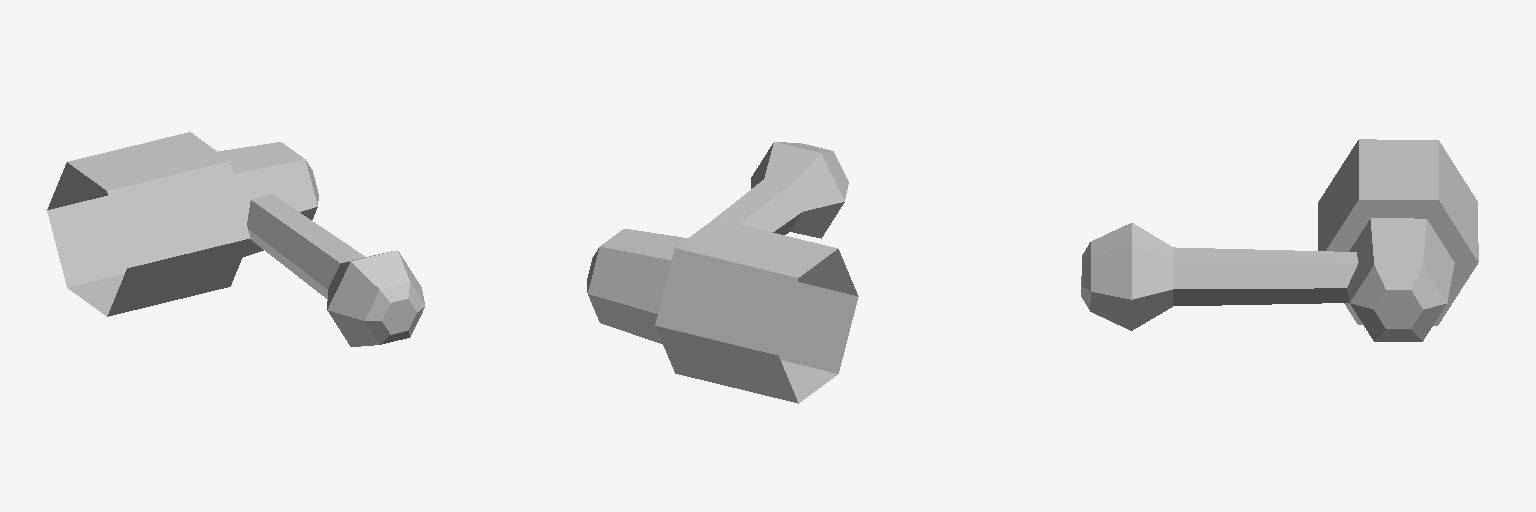
File: Room_301_0_6.obj
3 renders of one model, left to right at view 1: azimuth 30°, elevation 25°; view 2: azimuth 150°, elevation 25°; view 3: azimuth 270°, elevation 25°, orthographic.
Parts seen in each view (by area): view 1: Cube; view 2: Cube; view 3: Cube.
Part boxes in pixels (left/top/right/bottom): Cube: left=47, top=132, right=424, bottom=346; Cube: left=587, top=142, right=858, bottom=403; Cube: left=1081, top=139, right=1478, bottom=341.
Size of the model in its own units: 0.0901 by 0.0493 by 0.141.